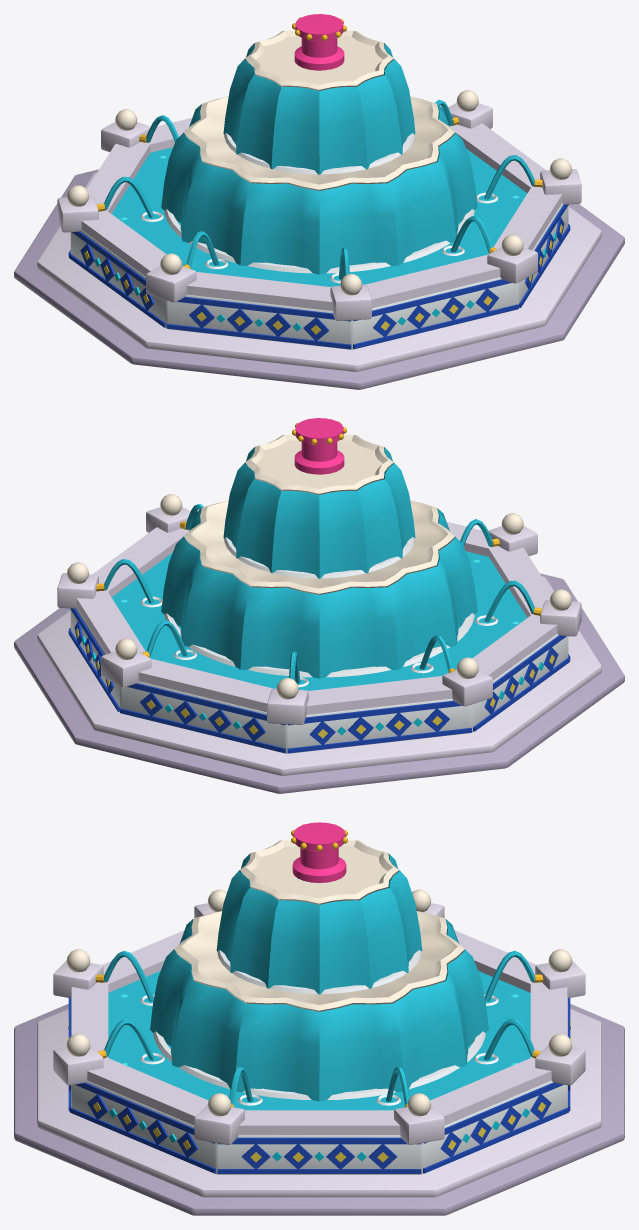
File: lobby_fountain.fbx
3 views of the same model, one above another, from view 1: azimuth 30°, elevation 25°; view 2: azimuth 150°, elevation 25°; view 3: azimuth 270°, elevation 25° (orthographic). The views are drawn at different scales.
Parts seen in each view (by area): view 1: lobby_fountain, lobby_fountain_Water; view 2: lobby_fountain, lobby_fountain_Water; view 3: lobby_fountain, lobby_fountain_Water.
Part boxes in pixels (x1,y1,x2,y2): lobby_fountain: (14, 14, 624, 389); lobby_fountain_Water: (104, 43, 534, 286); lobby_fountain: (14, 418, 624, 793); lobby_fountain_Water: (104, 447, 534, 690); lobby_fountain: (14, 822, 624, 1215); lobby_fountain_Water: (104, 854, 534, 1110).
Bounding box in the file's own units: 31.78 × 14.62 × 31.78.
2 materials, 2 textured.
